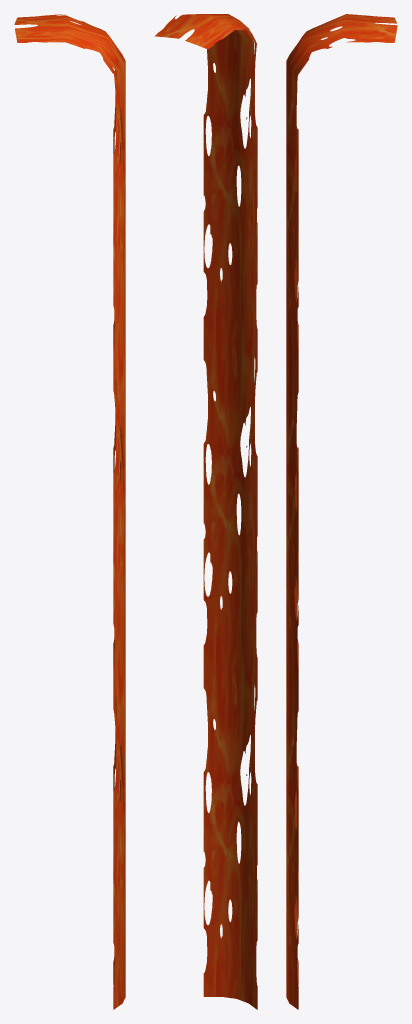
File: environment_Building_yingdi_hantianta_002_i.FBX
3 renders of one model, left to right at view 1: azimuth 90°, elevation 25°; view 2: azimuth 150°, elevation 25°; view 3: azimuth 270°, elevation 25°, orthographic. The views are drawn at different scales.
Parts seen in each view (by area): view 1: environment_Building_yingdi_hantianta_002_i; view 2: environment_Building_yingdi_hantianta_002_i; view 3: environment_Building_yingdi_hantianta_002_i.
Boxes of the visible parts, x1,y1,x2,y2 form: environment_Building_yingdi_hantianta_002_i: (14, 14, 125, 1009); environment_Building_yingdi_hantianta_002_i: (155, 14, 257, 1009); environment_Building_yingdi_hantianta_002_i: (286, 14, 397, 1009).
Bounding box in the file's own units: 2030 × 3406 × 32899.
